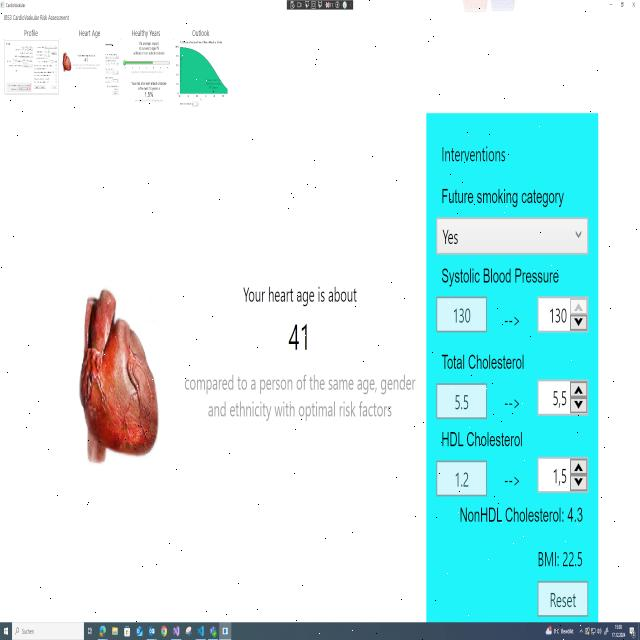button: (434, 294, 490, 337), (534, 577, 590, 619), (435, 381, 490, 423), (434, 458, 488, 498), (627, 0, 640, 14), (602, 0, 614, 13), (616, 0, 627, 13)
dropdownMenu: (434, 214, 589, 256)
input: (12, 620, 84, 640)
label: (457, 500, 588, 536), (436, 182, 572, 212), (437, 264, 563, 290), (438, 346, 530, 376), (436, 137, 512, 171), (439, 426, 528, 454), (531, 544, 588, 572), (3, 13, 75, 25), (125, 20, 163, 39), (495, 392, 526, 412), (498, 308, 523, 332), (501, 466, 524, 491), (185, 23, 213, 38), (77, 26, 102, 38), (20, 28, 43, 37)
upDown: (536, 375, 592, 422), (534, 452, 592, 496), (536, 293, 590, 336)
